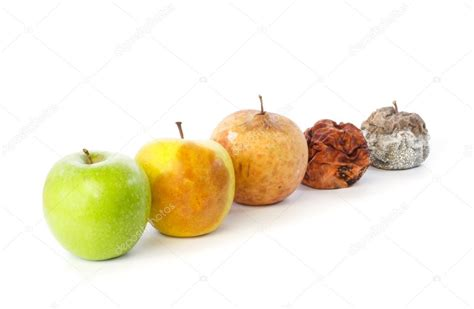apple: (41, 151, 150, 260), (136, 133, 233, 240)
